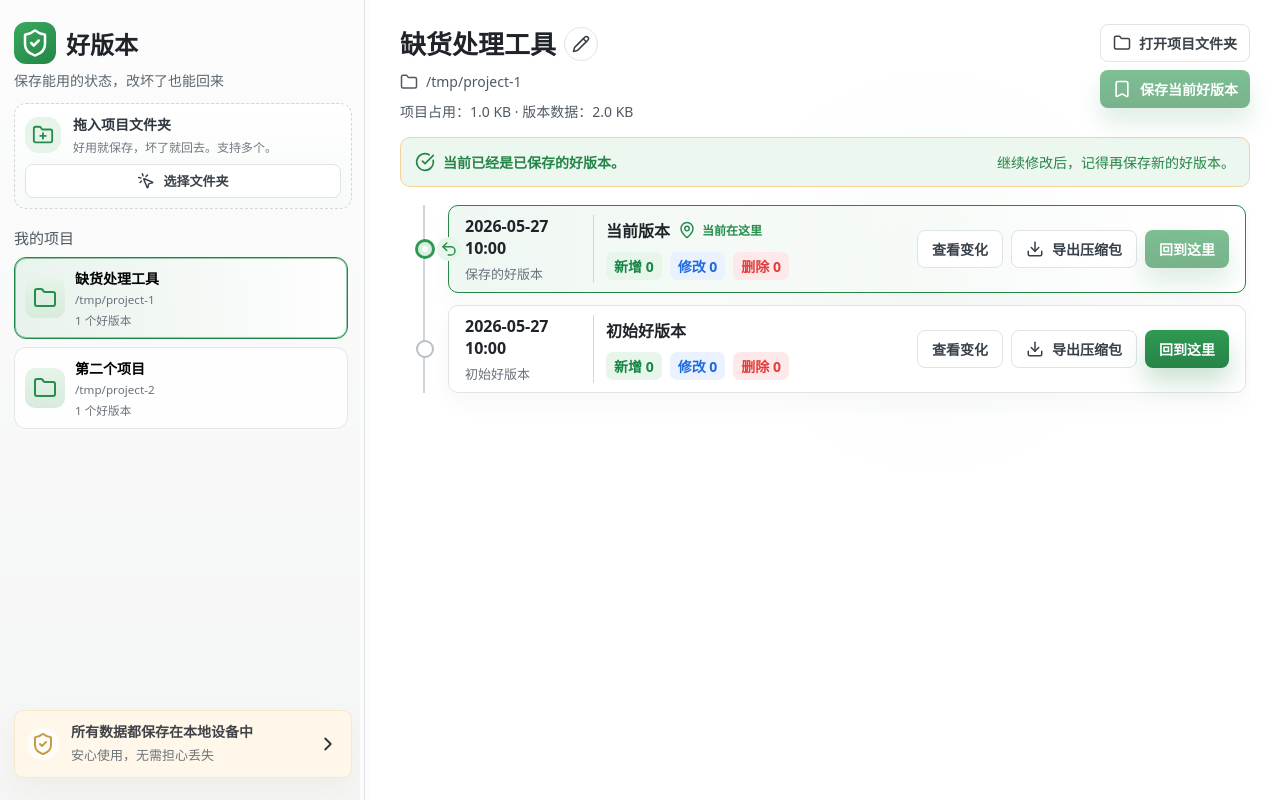
Test case: App › 回退失败时在弹窗上方显示中文提示
Check: the text "当前已经是已保存的好版本。" is shown, box [415,152,625,172]
Click the 2nd button "回到这里". click: (1187, 349)
box: [1145,330,1229,368]
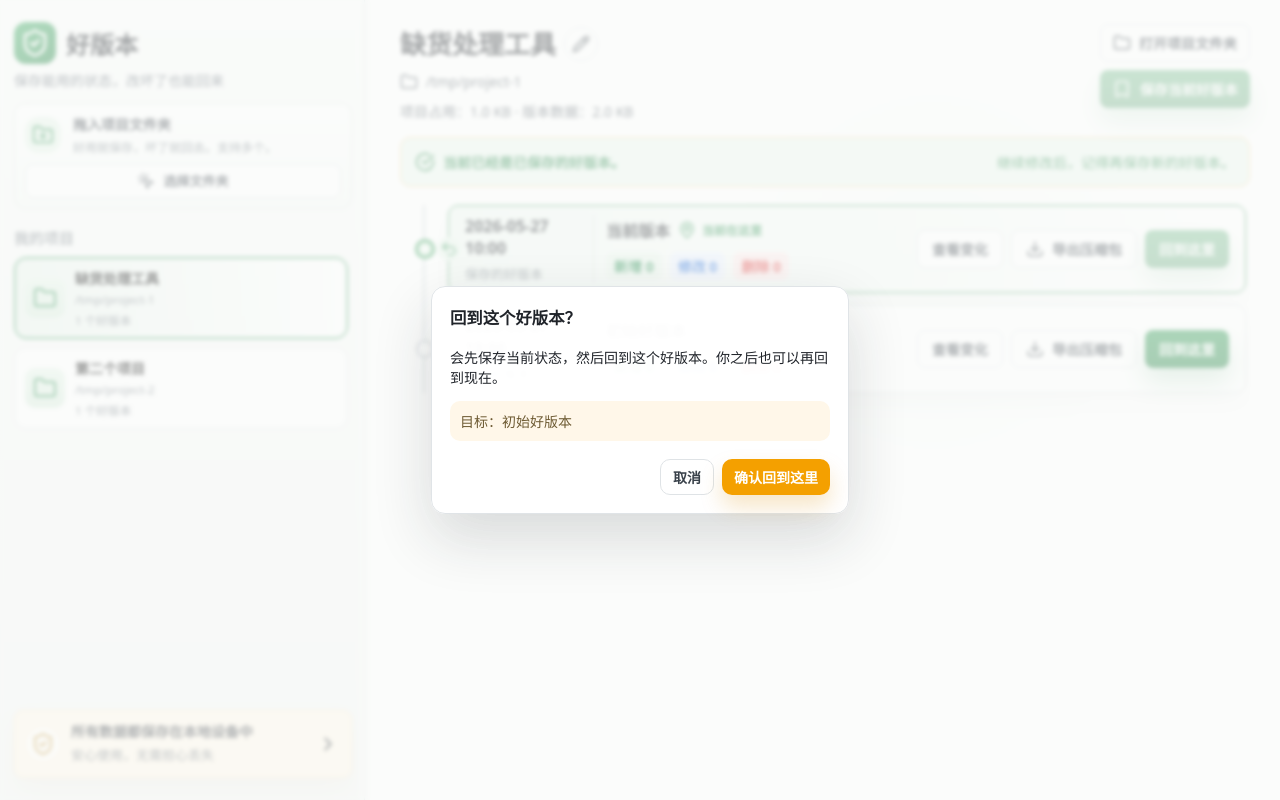
Click the button "确认回到这里". click: (776, 477)
box: [722,459,830,495]
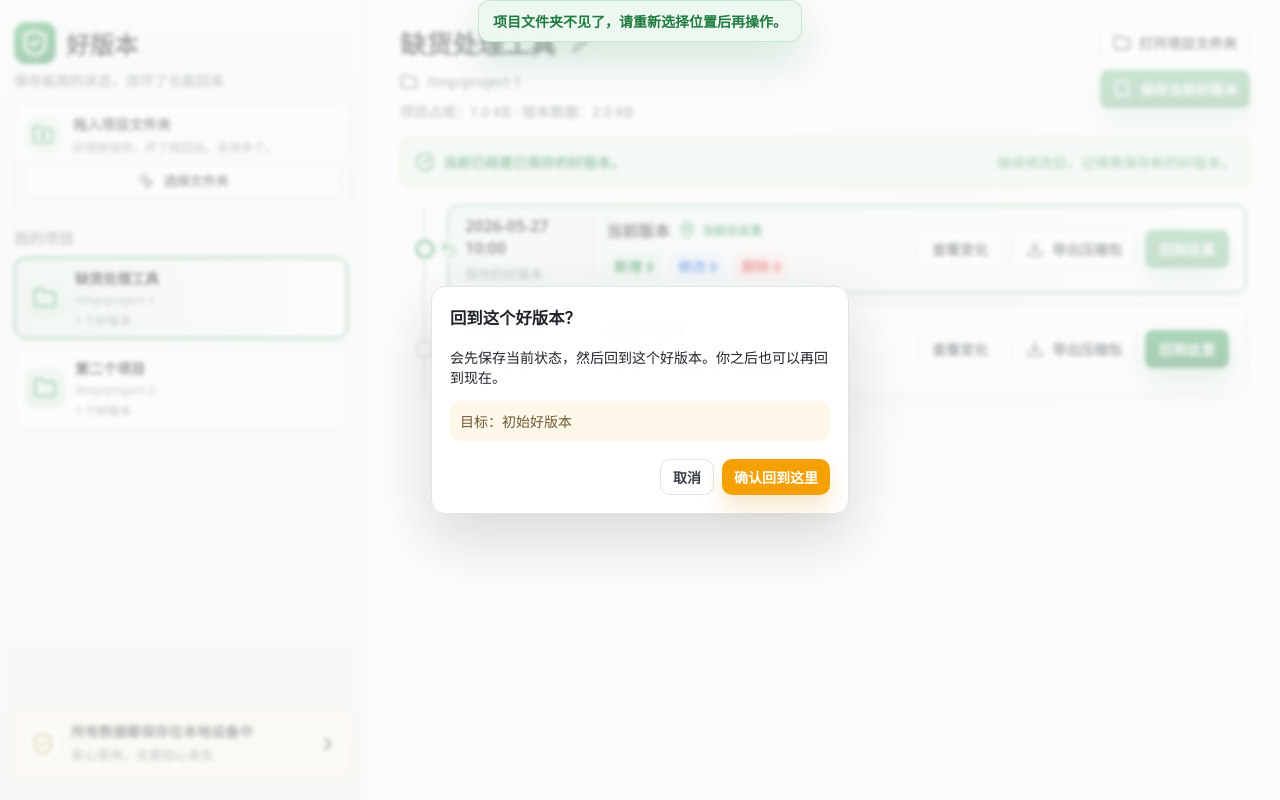
Check: the heading "回到这个好版本？" is shown, box [450,307,581,329]
Check: the message reads "项目文件夹不见了，请重新选择位置后再操作。", box [493,12,787,31]
